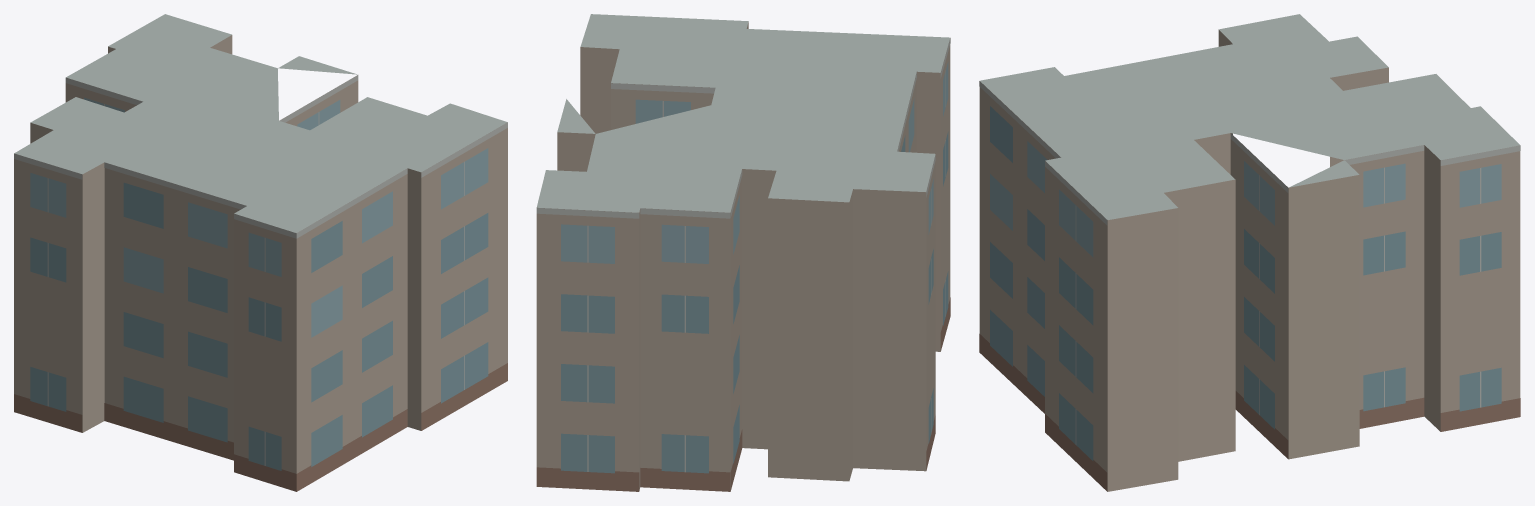
The model's file is survey-upis-32475040.glb.
3 renders of one model, left to right at view 1: azimuth 30°, elevation 25°; view 2: azimuth 150°, elevation 25°; view 3: azimuth 270°, elevation 25°, orthographic. The views are drawn at different scales.
Parts seen in each view (by area): view 1: survey-upis-32475040.tmp; view 2: survey-upis-32475040.tmp; view 3: survey-upis-32475040.tmp.
Boxes of the visible parts, box(x1,y1,x2,y2) form: survey-upis-32475040.tmp: box(14, 14, 507, 491); survey-upis-32475040.tmp: box(536, 14, 950, 491); survey-upis-32475040.tmp: box(979, 14, 1520, 491).
Size of the model in its own units: 18.56 by 11.4 by 20.58.
